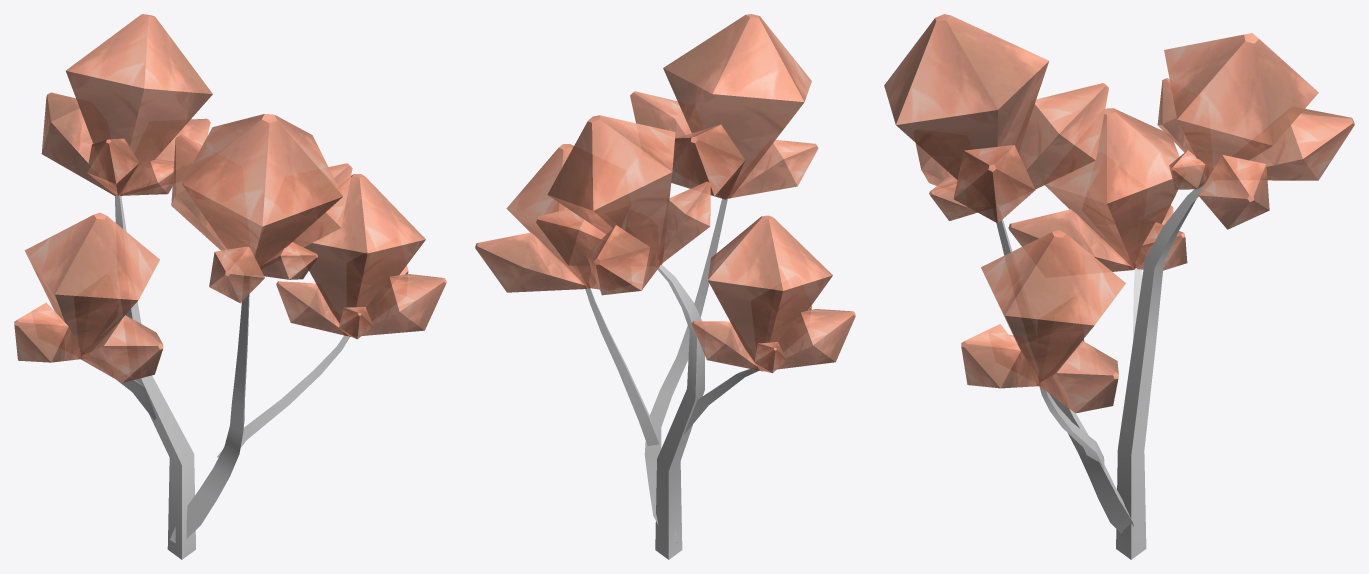
Rendered from salt-crystal-trees.glb.
The picture shows the model from 3 angles, left to right: view 1: azimuth 30°, elevation 25°; view 2: azimuth 150°, elevation 25°; view 3: azimuth 270°, elevation 25°; orthographic projection. The views are drawn at different scales.
Visible parts, largest first — view 1: tree-2; view 2: tree-2; view 3: tree-2.
Part boxes in pixels (x1=…): tree-2: x1=14, y1=14, x2=446, y2=559; tree-2: x1=475, y1=14, x2=855, y2=559; tree-2: x1=884, y1=14, x2=1354, y2=559.
Size of what is drawn, in the model's own units: 4.21 by 5.14 by 4.09.
Materials: 2 (1 with a texture image).
